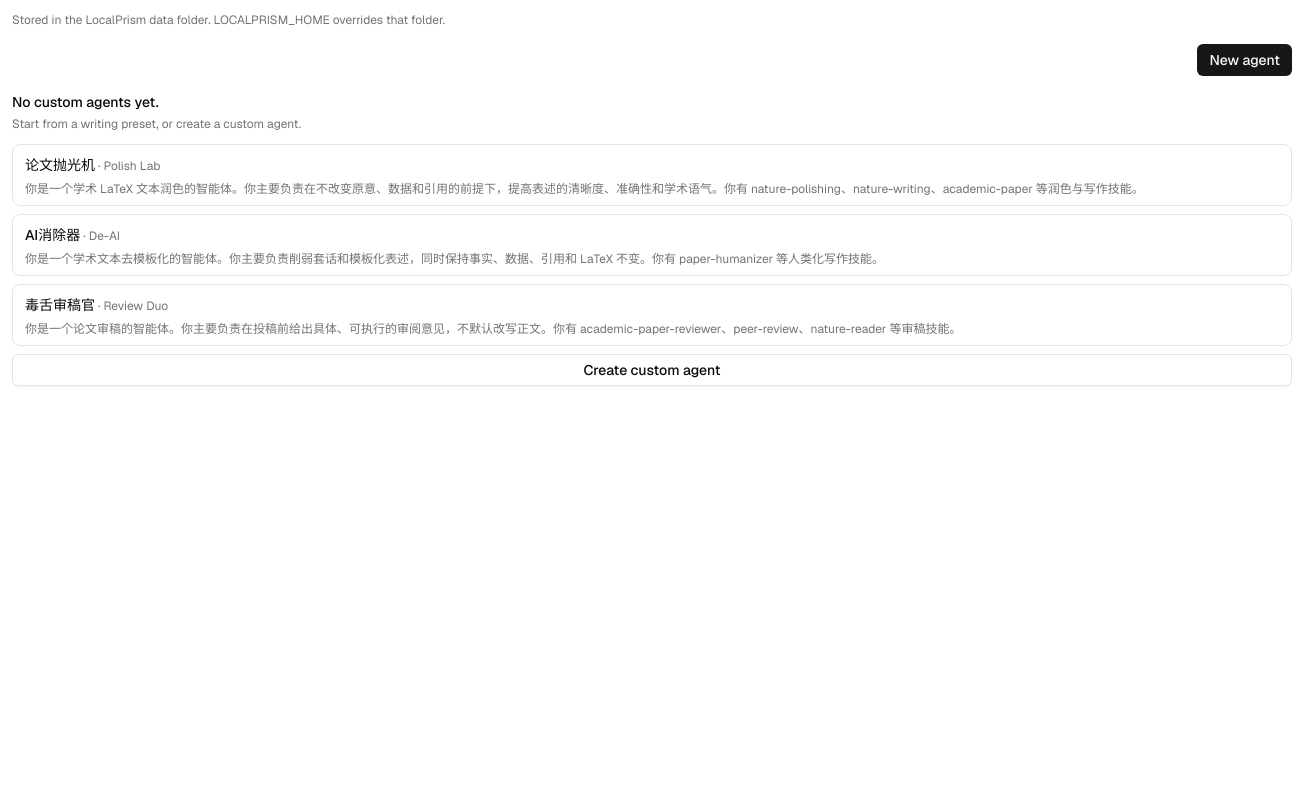
Test: AgentLibrary presets › does not attach citation skills when creating the peer review preset
Step 1. Click the button with test id "agent-preset-peer-review" → (60, 305), box [12,284,1292,346]
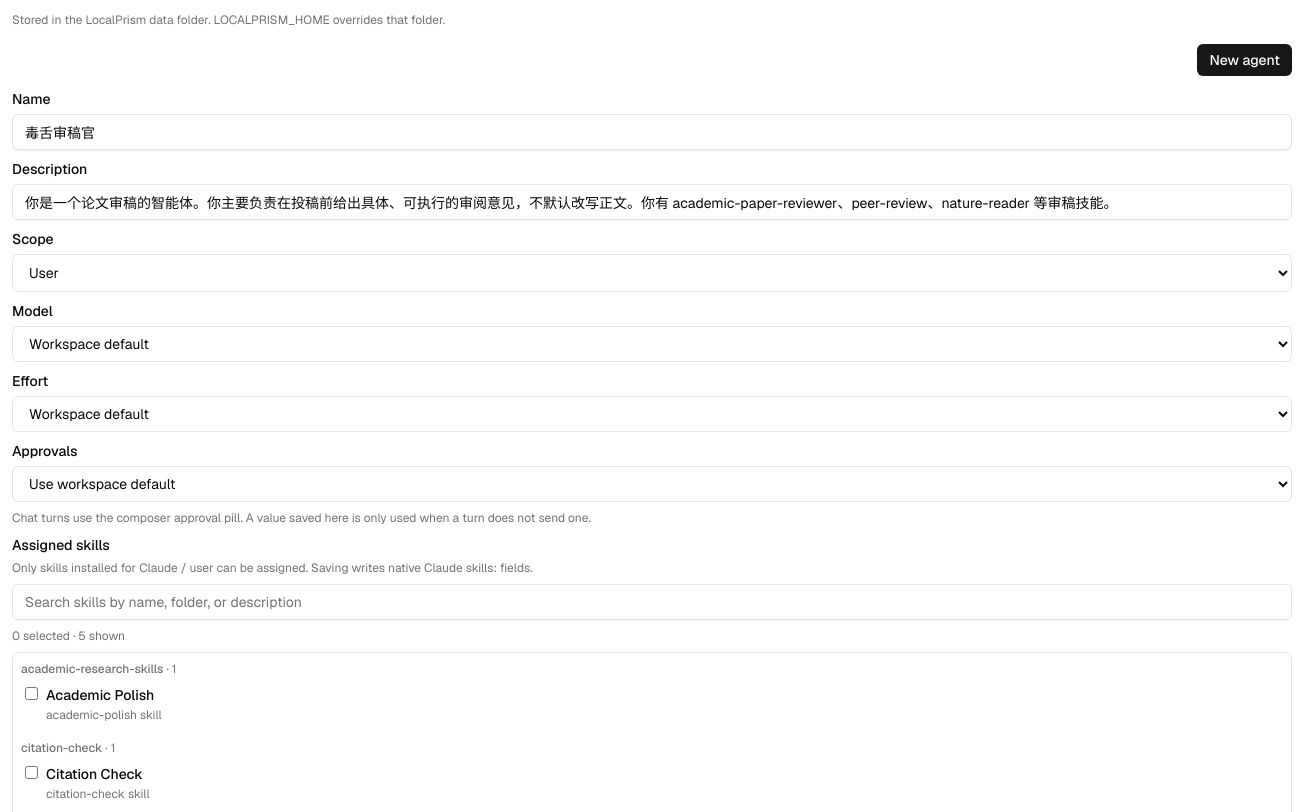
Result: the field with id "agent-name" holds "毒舌审稿官" at [12,114,1292,150]
Result: the text "0 selected" is shown at [12,628,125,644]
Result: the checkbox labelled "Citation Check citation-check skill" is not checked at [25,766,38,778]
